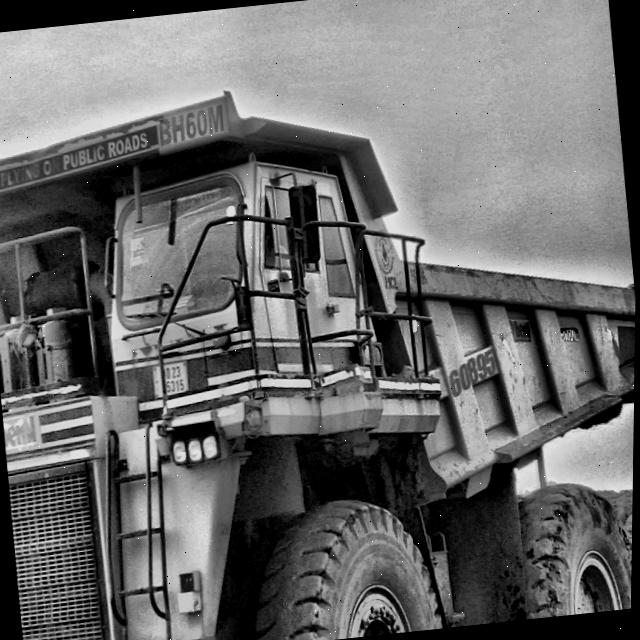dump_truck: (0, 95, 636, 640)
